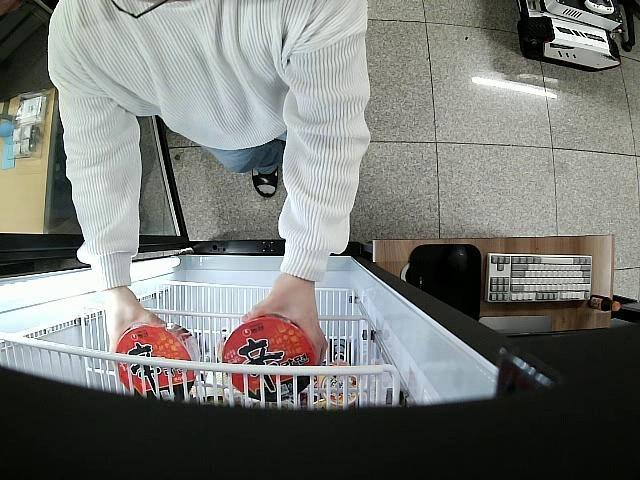01_ShinRamen_L: (222, 316, 316, 403), (116, 321, 201, 402)
